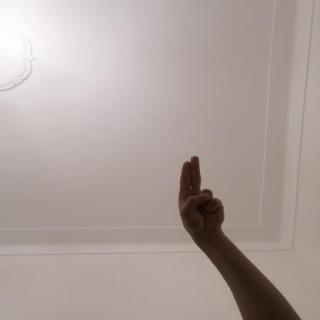TA: (168, 147, 230, 241)
